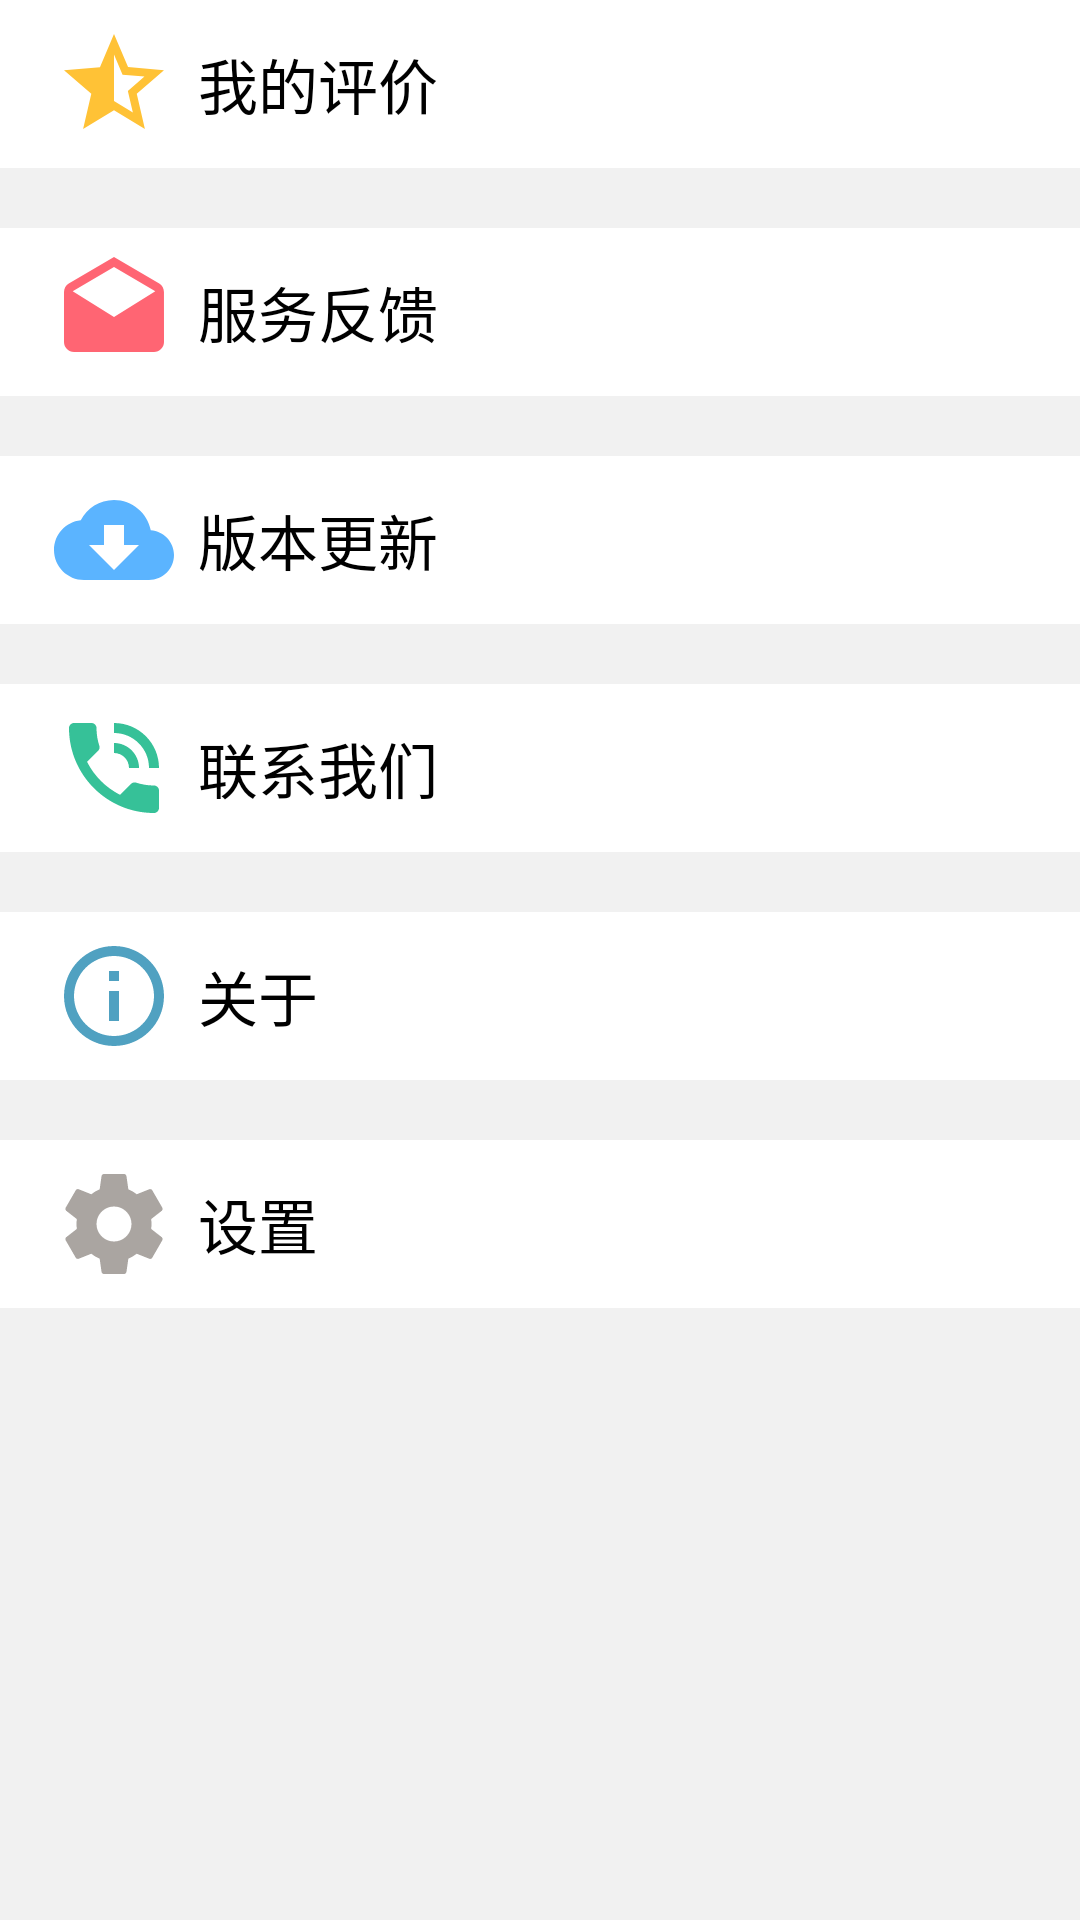

Icon bounding boxes for this 1080 x 1920 phone screenshot, format (x1, y1, x2, y2):
cloud: (54, 500, 174, 580)
drafts: (64, 257, 164, 352)
info: (64, 946, 164, 1046)
phone: (69, 723, 159, 813)
set: (65, 1174, 163, 1274)
star: (64, 34, 164, 129)
